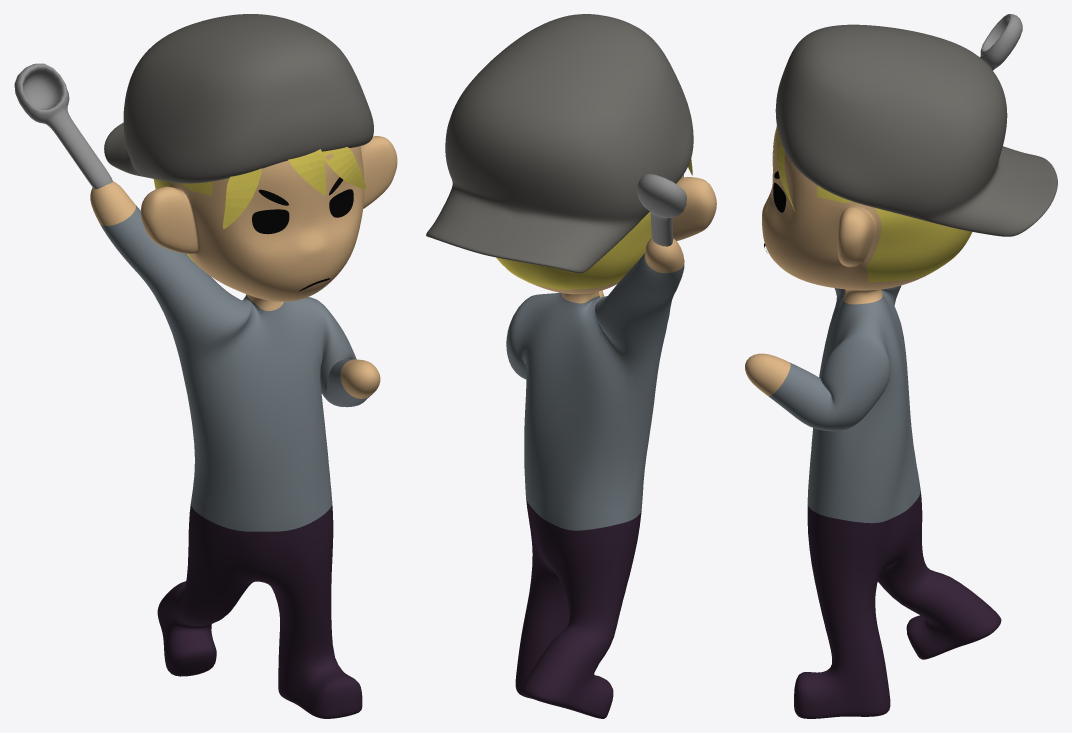
File: employee unity.fbx
3 renders of one model, left to right at view 1: azimuth 30°, elevation 25°; view 2: azimuth 150°, elevation 25°; view 3: azimuth 270°, elevation 25°, orthographic. The views are drawn at different scales.
Parts seen in each view (by area): view 1: Cube; view 2: Cube; view 3: Cube.
Part boxes in pixels (x1,y1,x2,y2): Cube: (14,14,397,718); Cube: (426,14,716,718); Cube: (745,14,1057,718).
Size of the model in its own units: 78.93 by 170 by 73.73.
